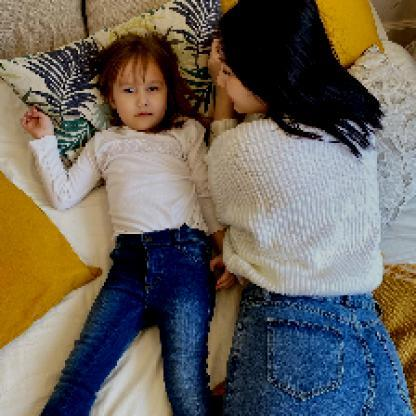child: (20, 33, 239, 416)
